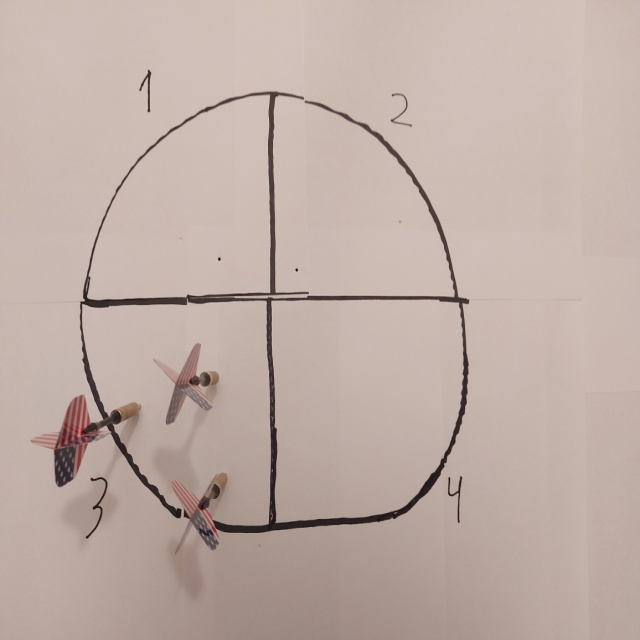Dart: (23, 390, 144, 490), (145, 337, 228, 427), (166, 467, 235, 560)
